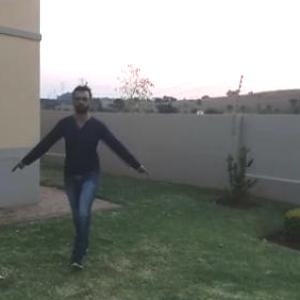land: (21, 87, 152, 254)
